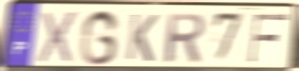7: (210, 10, 247, 66)
F: (247, 13, 291, 65)
G: (77, 9, 121, 68)
K: (124, 12, 160, 64)
R: (163, 12, 207, 65)
X: (36, 10, 80, 65)
